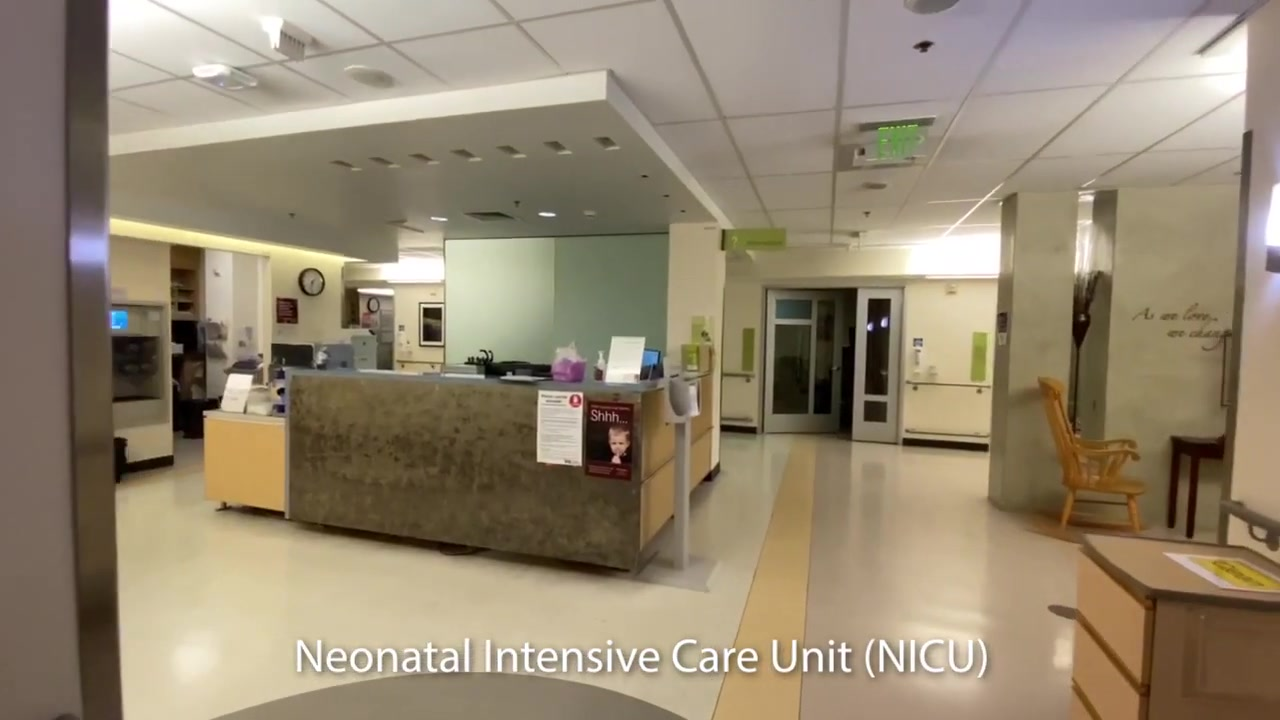chair: (1036, 376, 1146, 539)
counter: (286, 367, 710, 570)
dispenser: (912, 346, 924, 375)
hallway_assist_bar: (1218, 499, 1280, 542), (902, 427, 990, 442), (906, 378, 991, 387), (720, 414, 754, 424), (719, 372, 757, 380)
table: (1056, 541, 1279, 720), (208, 405, 287, 515), (1164, 435, 1231, 539)
